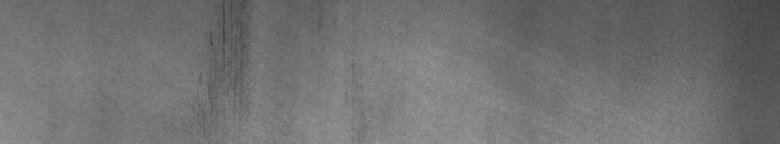ka: (208, 4, 244, 96)
